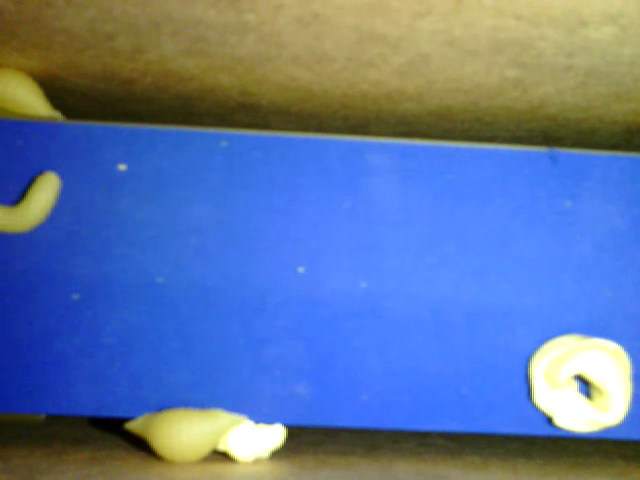elbow: (2, 169, 61, 234)
shell: (125, 405, 250, 464), (1, 64, 67, 125)
tortellini: (527, 332, 634, 435)
